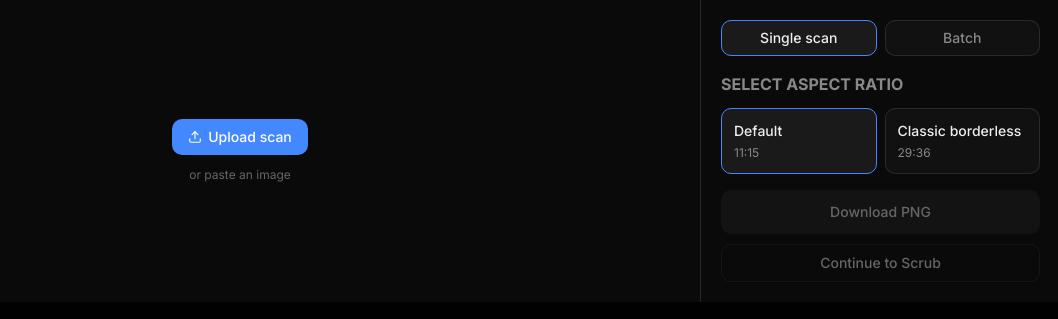
Test: PadderPageContent › returns to single mode after visiting batch mode
Click the radio button with test id "mode-batch" at (962, 38), box x1=884 y1=20 x2=1040 y2=56
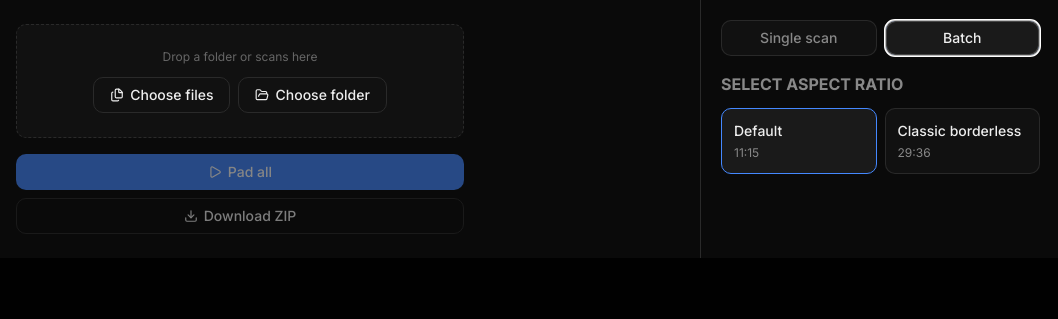
Click the radio button with test id "mode-single" at (799, 38), box x1=721 y1=20 x2=876 y2=56
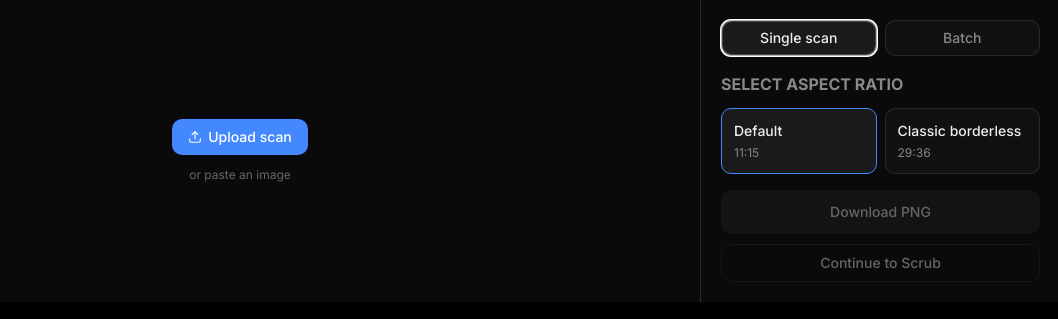
Result: the button with test id "padder-upload-btn" is shown at x1=172 y1=119 x2=308 y2=155
Result: the element with test id "batch-drop-zone" is gone
